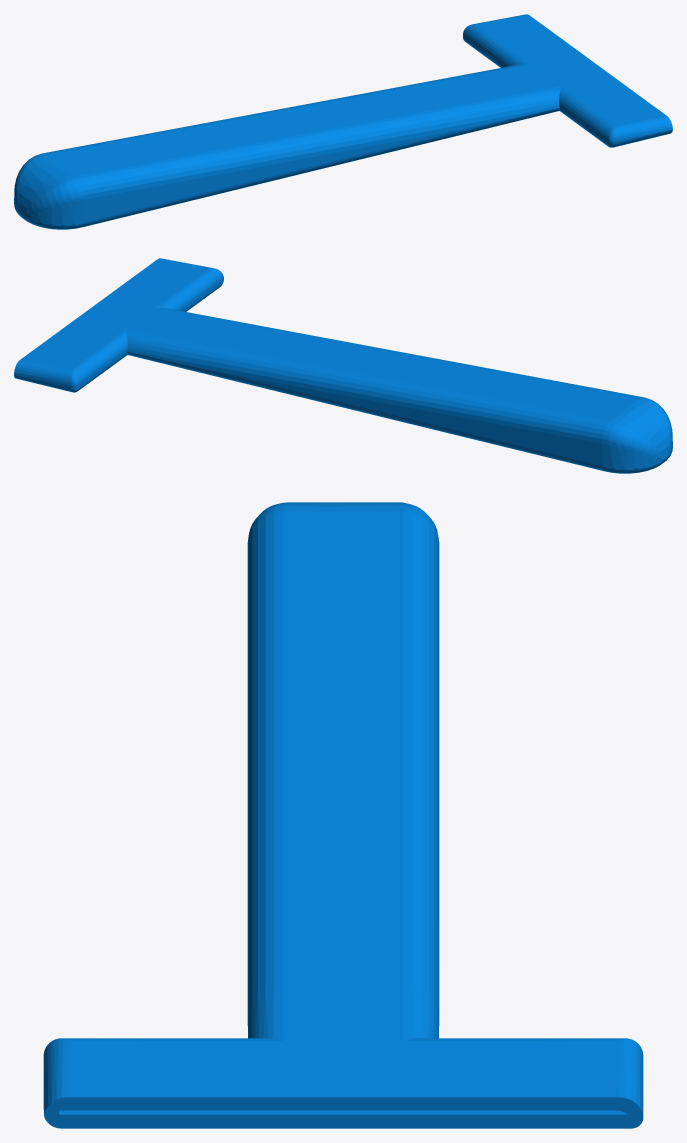
The model's file is Blade.fbx.
3 renders of one model, top to bottom at view 1: azimuth 30°, elevation 25°; view 2: azimuth 150°, elevation 25°; view 3: azimuth 270°, elevation 25°, orthographic. The views are drawn at different scales.
Parts seen in each view (by area): view 1: uploads_files_78046_razor; view 2: uploads_files_78046_razor; view 3: uploads_files_78046_razor.
Part boxes in pixels (x1,y1,x2,y2): uploads_files_78046_razor: [14, 14, 672, 229]; uploads_files_78046_razor: [14, 258, 672, 473]; uploads_files_78046_razor: [43, 502, 643, 1128].
Bounding box in the file's own units: 11101 × 859 × 5000.
